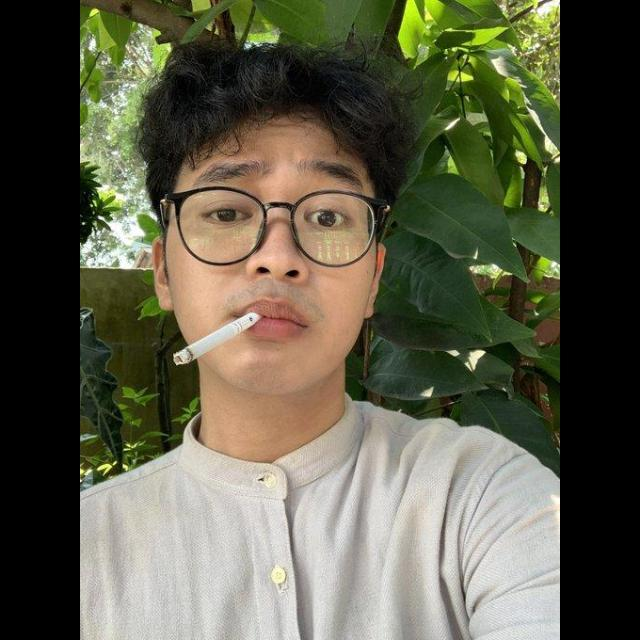rokok: (166, 306, 264, 370)
